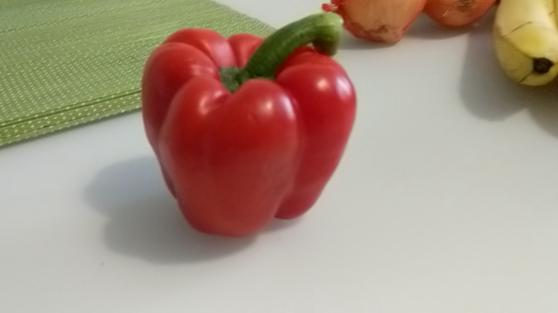pepper: (141, 12, 358, 239)
